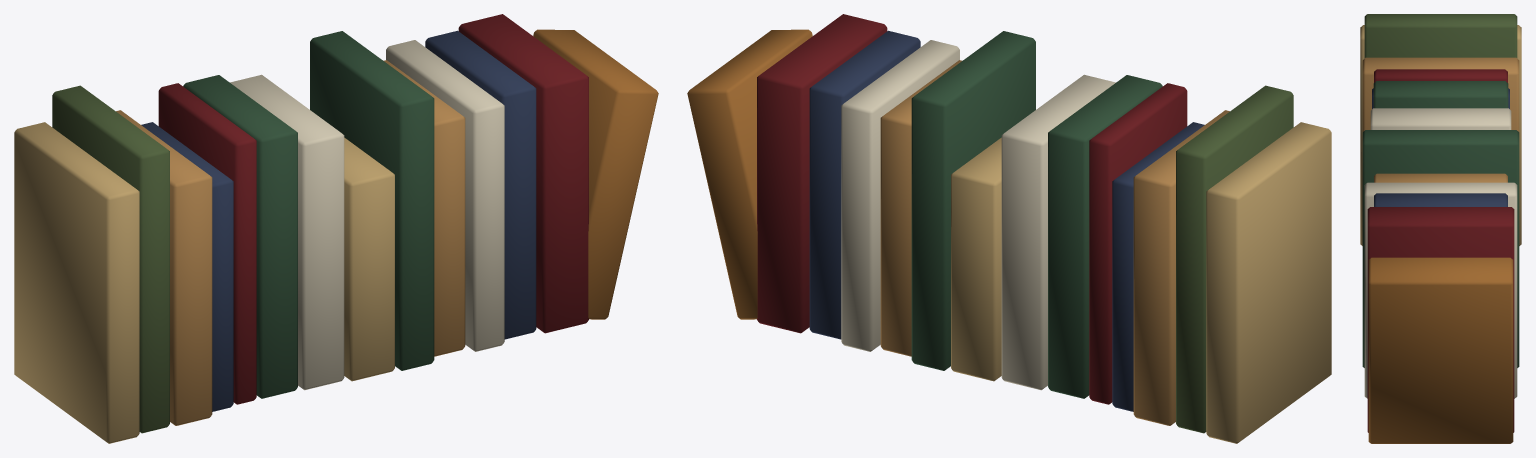
Rendered from SM_MB_BookRow.fbx.
3 renders of one model, left to right at view 1: azimuth 30°, elevation 25°; view 2: azimuth 150°, elevation 25°; view 3: azimuth 270°, elevation 25°, orthographic. The views are drawn at different scales.
Visible parts, largest first — view 1: SM_MB_BookRow; view 2: SM_MB_BookRow; view 3: SM_MB_BookRow.
Part boxes in pixels (bbox=[...]): SM_MB_BookRow: bbox=[14, 14, 658, 443]; SM_MB_BookRow: bbox=[687, 14, 1331, 443]; SM_MB_BookRow: bbox=[1360, 14, 1521, 443].
Bounding box in the file's own units: 0.5865 × 0.1733 × 0.2812.
